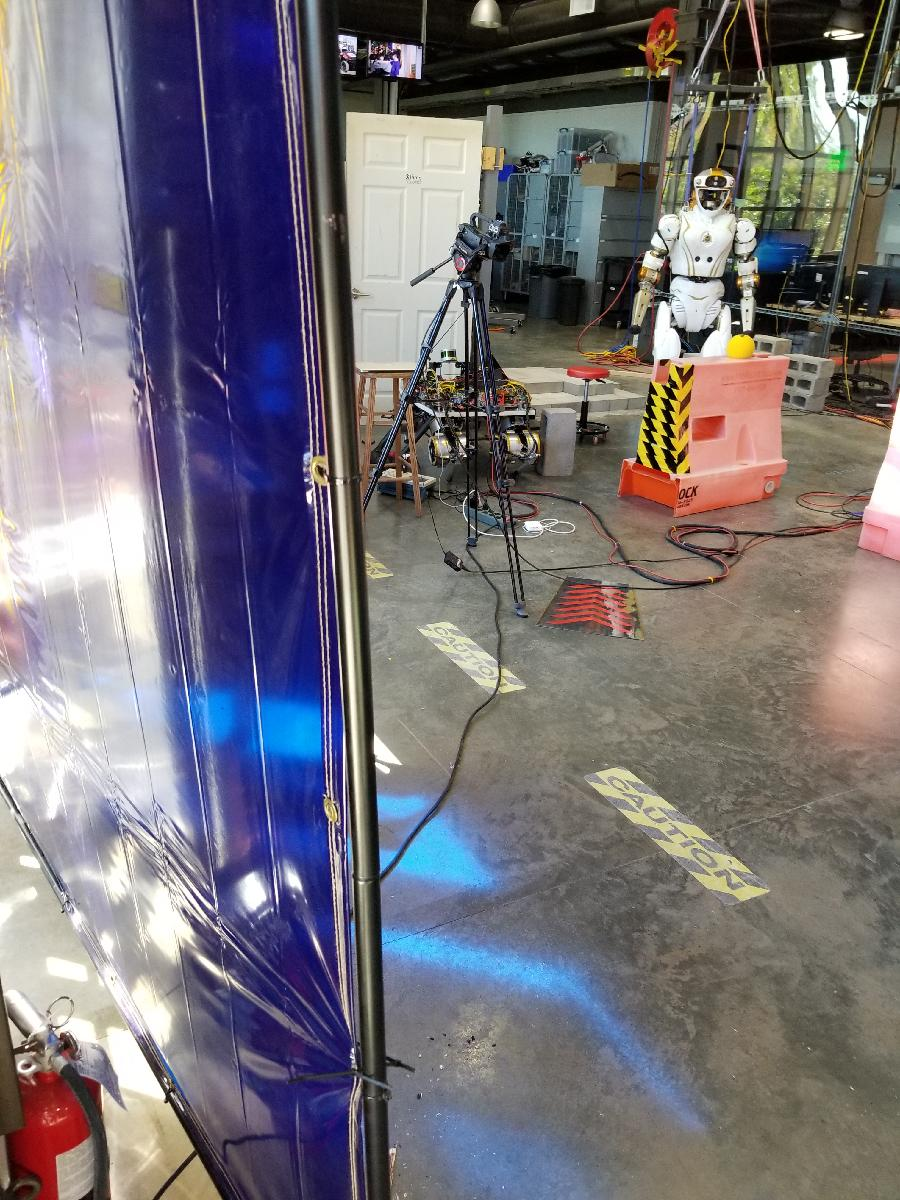door: (338, 108, 483, 430)
doorHandle: (352, 285, 371, 306)
